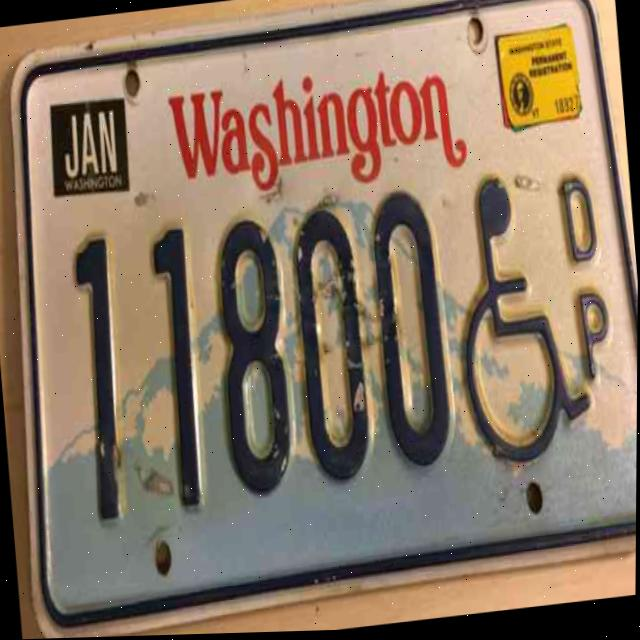symbol_of_access: (435, 161, 601, 483)
